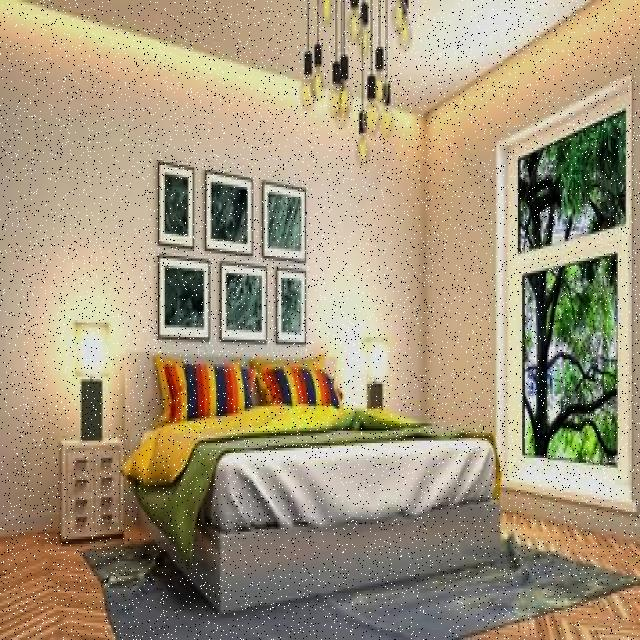bed: (131, 352, 496, 585)
